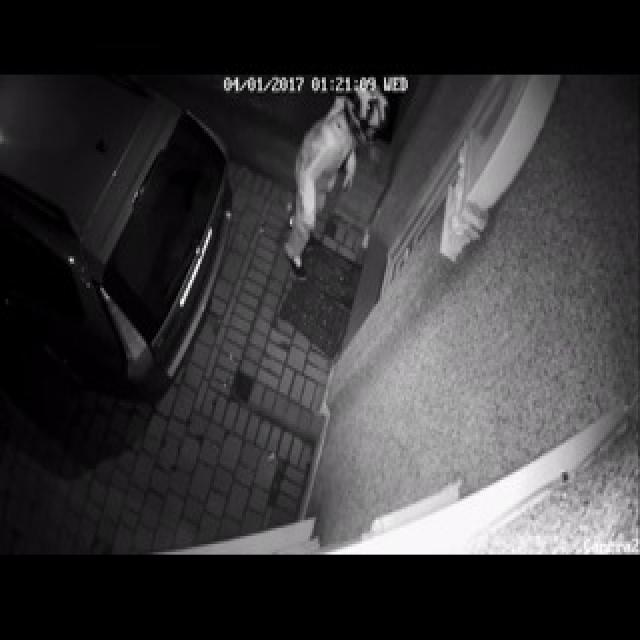thief: (298, 73, 379, 250)
